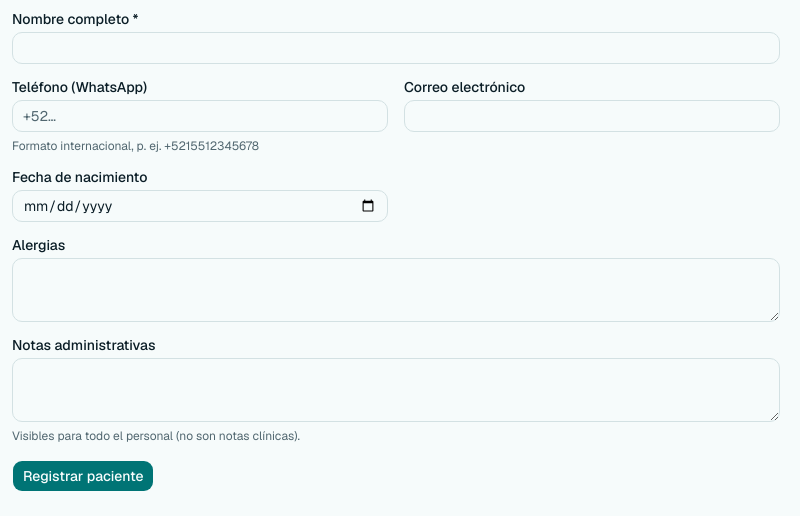
Test: PatientForm › valida teléfono y correo
Type "Juan" into the field labelled "Nombre completo *".
click(396, 48); type("Juan")  # box [12,32,780,64]
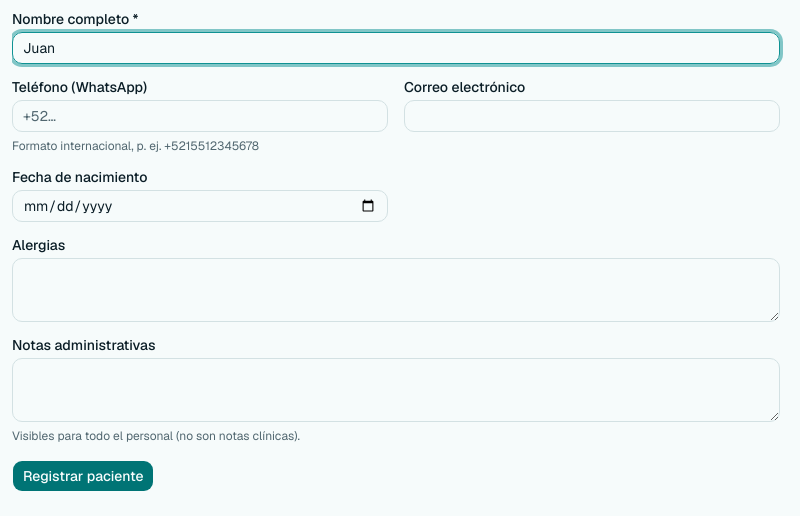
Type "5512345678" into the field labelled "Teléfono (WhatsApp)".
click(200, 116); type("5512345678")  # box [12,100,388,132]
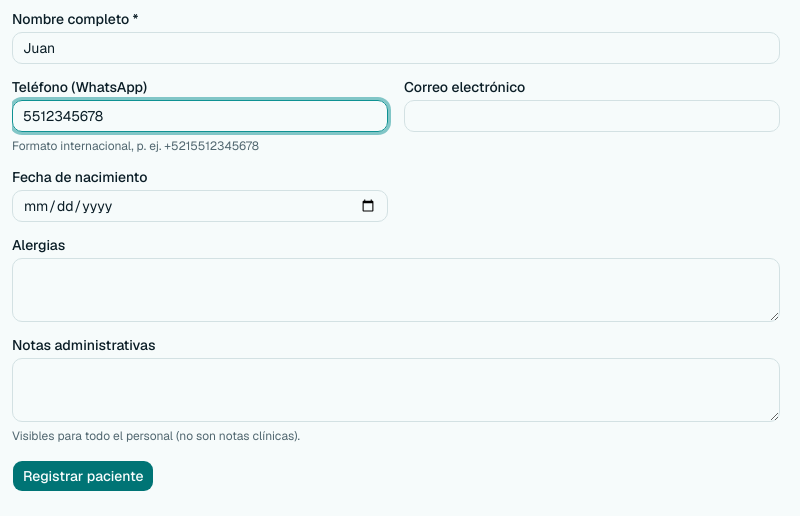
Type "no-es-correo" into the field labelled "Correo electrónico".
click(592, 116); type("no-es-correo")  # box [404,100,780,132]
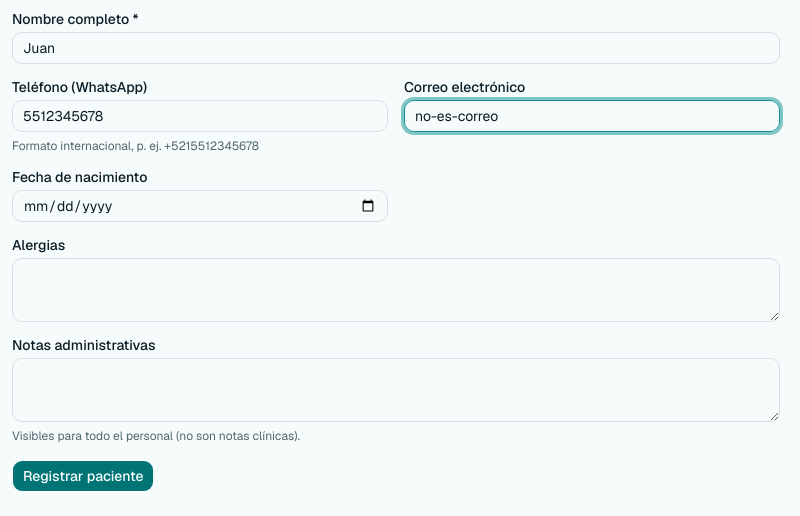
Click the button "Registrar paciente".
click(83, 476)  # box [12,460,154,492]
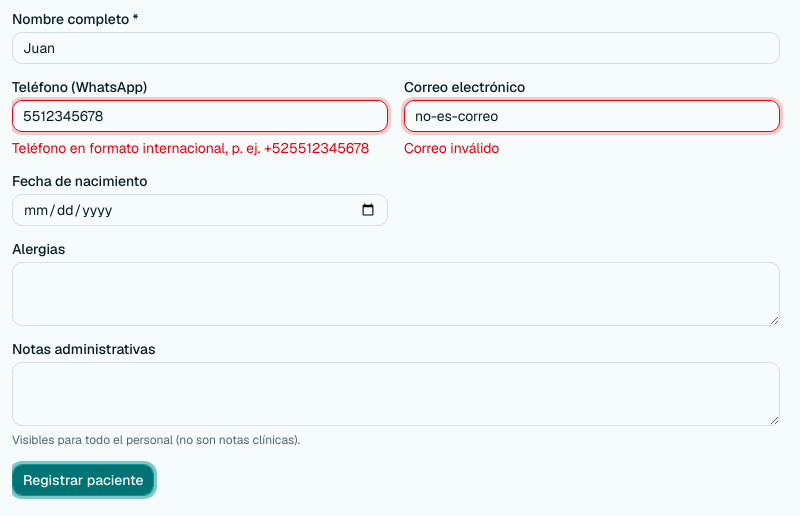
Expected: the text "Teléfono en formato internacional, p. ej. +525512345678" is shown, [12,138,388,158]
Expected: the text "Correo inválido" is shown, [404,139,499,157]
